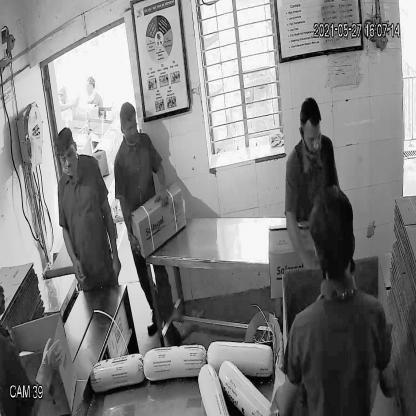no_goggles: (300, 122, 322, 149), (57, 144, 78, 167)
